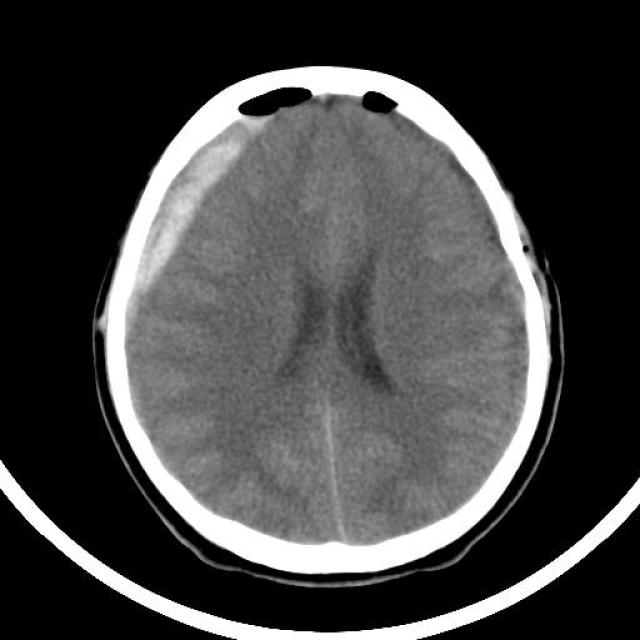Subdural: (82, 94, 274, 332)
